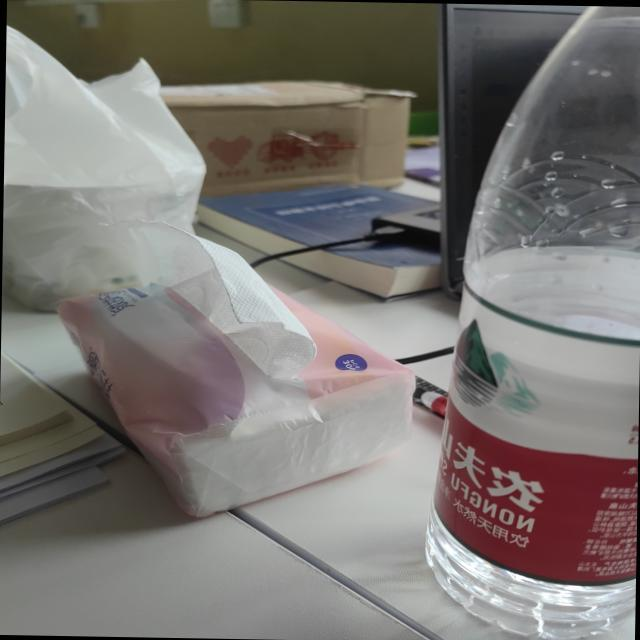good: (423, 9, 639, 639)
